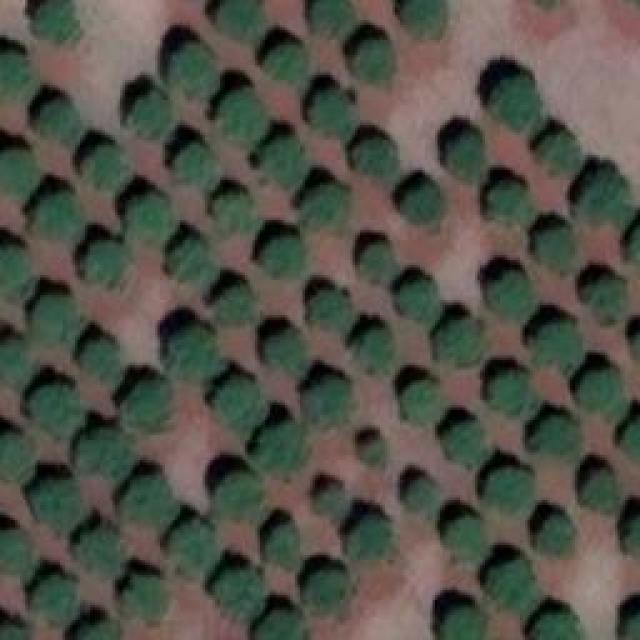Tree: (580, 173, 635, 226), (168, 43, 221, 98), (30, 388, 83, 441), (120, 478, 175, 528), (218, 90, 268, 143), (28, 192, 83, 240), (32, 483, 80, 538), (532, 323, 580, 376), (435, 317, 488, 365), (492, 78, 540, 131), (577, 370, 625, 420), (125, 197, 175, 245), (170, 328, 218, 378), (257, 425, 305, 475), (78, 427, 128, 475), (30, 578, 78, 628), (218, 378, 261, 433), (77, 530, 125, 578), (485, 468, 535, 513), (213, 475, 263, 520), (123, 380, 168, 430), (218, 570, 263, 620), (488, 272, 533, 320), (487, 373, 535, 418), (82, 145, 130, 190), (305, 380, 353, 425), (173, 522, 218, 570), (122, 575, 170, 620), (33, 297, 78, 345), (313, 90, 356, 140), (263, 138, 306, 188), (490, 560, 530, 613), (303, 185, 348, 230), (35, 100, 80, 145), (400, 383, 445, 426), (173, 148, 218, 191), (350, 515, 393, 560), (535, 418, 583, 458), (125, 95, 173, 135), (353, 327, 393, 375), (0, 150, 40, 198), (445, 425, 488, 468), (355, 140, 398, 183), (310, 290, 353, 333), (307, 570, 345, 618), (34, 0, 77, 42), (218, 0, 263, 40), (0, 340, 35, 390), (580, 473, 623, 513), (400, 280, 440, 323), (538, 135, 581, 175), (403, 185, 446, 225), (260, 238, 303, 278), (265, 330, 305, 373), (445, 518, 483, 563), (170, 242, 215, 280), (403, 0, 448, 38), (265, 45, 310, 83), (0, 529, 32, 582), (213, 195, 256, 233), (85, 242, 128, 280), (310, 0, 353, 38), (80, 343, 120, 383), (353, 40, 393, 80), (0, 435, 35, 480), (213, 287, 253, 325), (588, 278, 623, 321), (490, 185, 533, 220), (442, 607, 487, 640), (450, 135, 483, 180), (0, 50, 30, 98), (0, 247, 32, 292), (540, 228, 573, 271), (538, 518, 573, 558), (258, 612, 308, 640), (268, 525, 298, 570), (360, 245, 398, 280), (405, 480, 438, 520), (535, 612, 580, 640), (318, 485, 351, 518), (617, 417, 640, 460), (78, 620, 121, 640), (625, 515, 640, 558), (363, 440, 386, 463)
